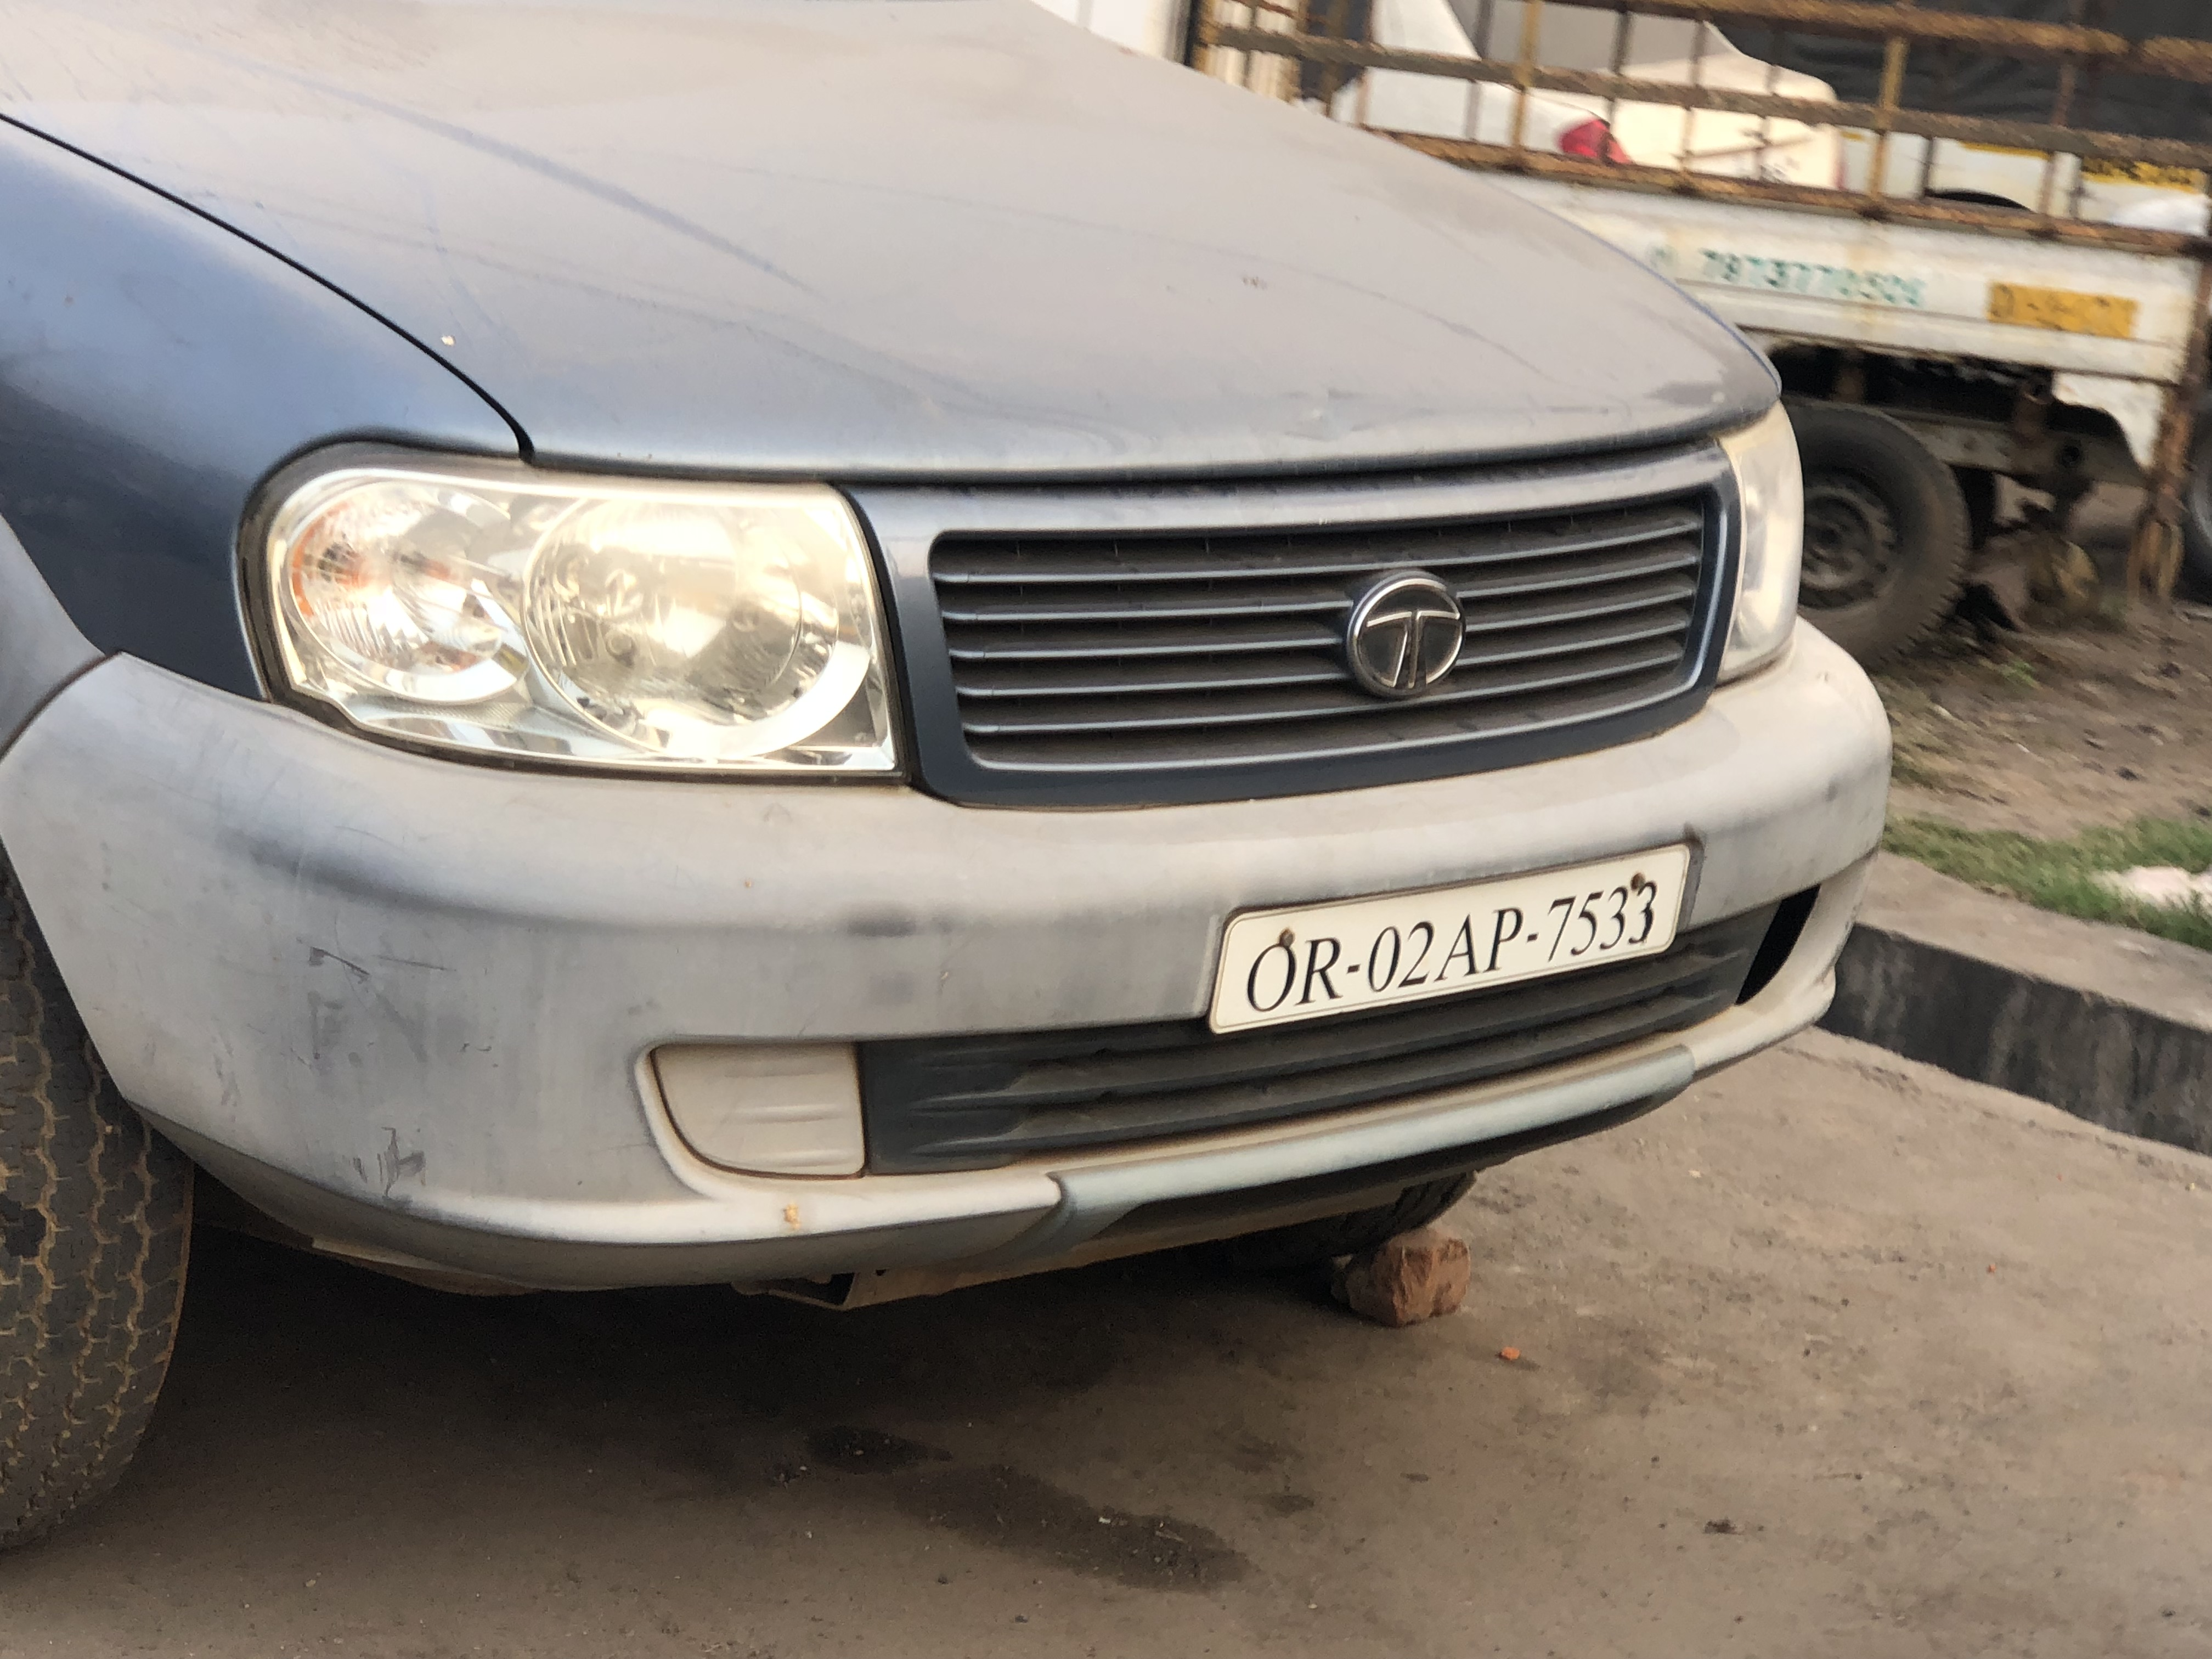licenseplate: (1185, 840, 1728, 1036)
